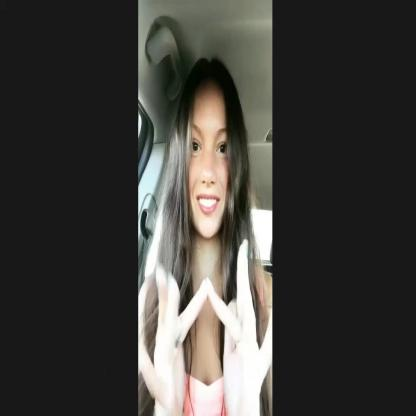Internet: (136, 243, 268, 416)
